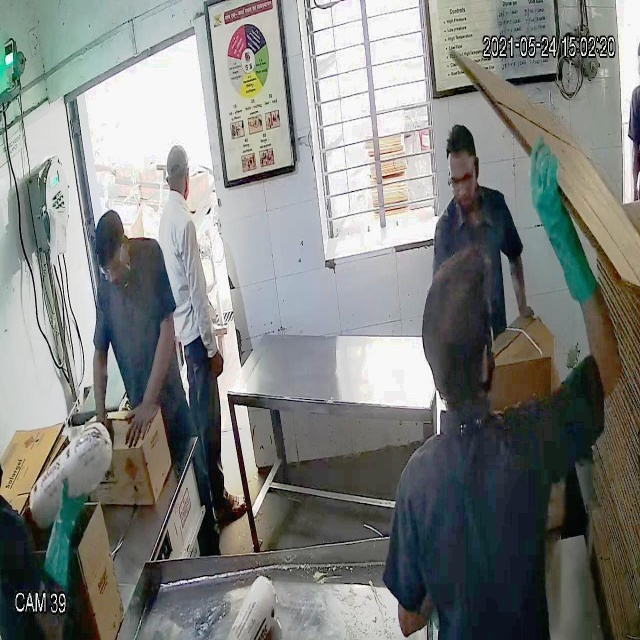Gafas: (92, 243, 127, 280), (443, 170, 482, 197)
